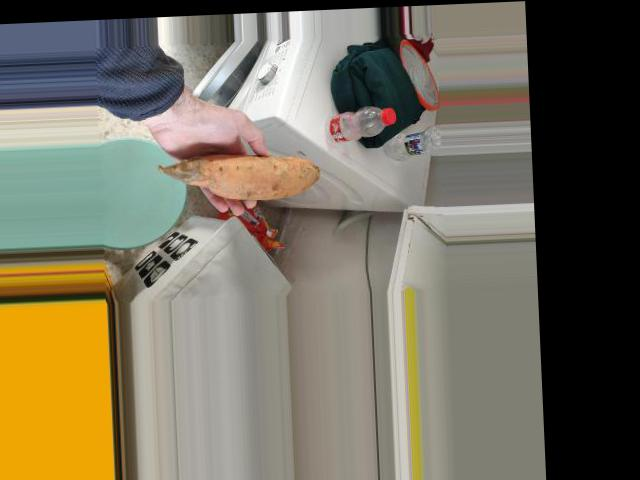sweet_potato: (164, 147, 321, 203)
